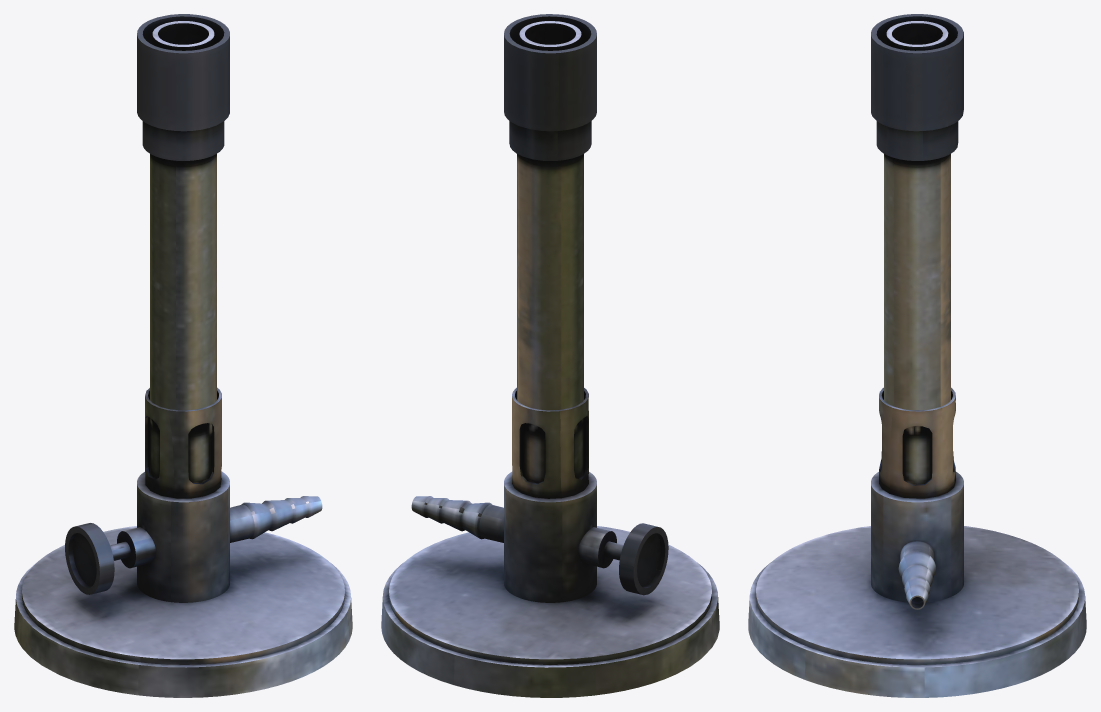
File: bunsen_burner.glb
3 renders of one model, left to right at view 1: azimuth 30°, elevation 25°; view 2: azimuth 150°, elevation 25°; view 3: azimuth 270°, elevation 25°, orthographic.
Visible parts, largest first — view 1: bunsen_burner.001; view 2: bunsen_burner.001; view 3: bunsen_burner.001.
Boxes of the visible parts, left/top/right/bottom form: bunsen_burner.001: left=14, top=14, right=352, bottom=697; bunsen_burner.001: left=381, top=14, right=719, bottom=697; bunsen_burner.001: left=748, top=14, right=1086, bottom=697.
Bounding box in the file's own units: 0.0717 × 0.1387 × 0.0718.
Materials: 1 (1 with a texture image).
